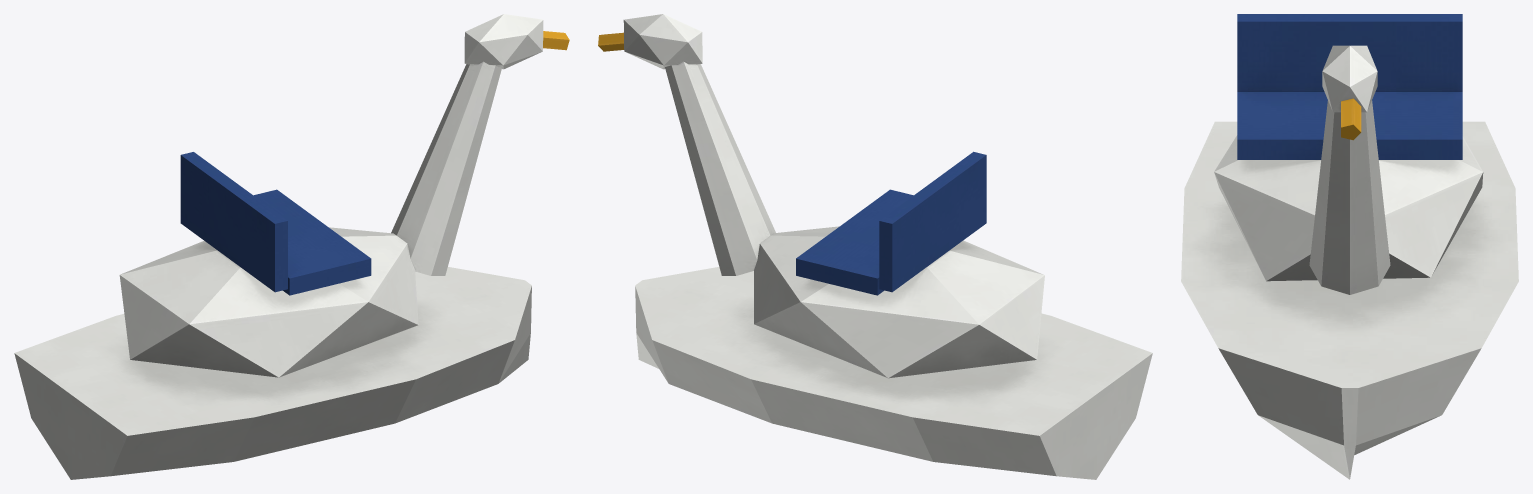
The model's file is svanbat_tex.glb.
3 renders of one model, left to right at view 1: azimuth 30°, elevation 25°; view 2: azimuth 150°, elevation 25°; view 3: azimuth 270°, elevation 25°, orthographic. The views are drawn at different scales.
Visible parts, largest first — view 1: svanbat; view 2: svanbat; view 3: svanbat.
Boxes of the visible parts, box(x1,y1,x2,y2) form: svanbat: box(14, 14, 569, 479); svanbat: box(598, 14, 1152, 479); svanbat: box(1181, 14, 1518, 479).
Size of the model in its own units: 3.03 by 2.18 by 1.5.
Materials: 4 (3 with a texture image).
